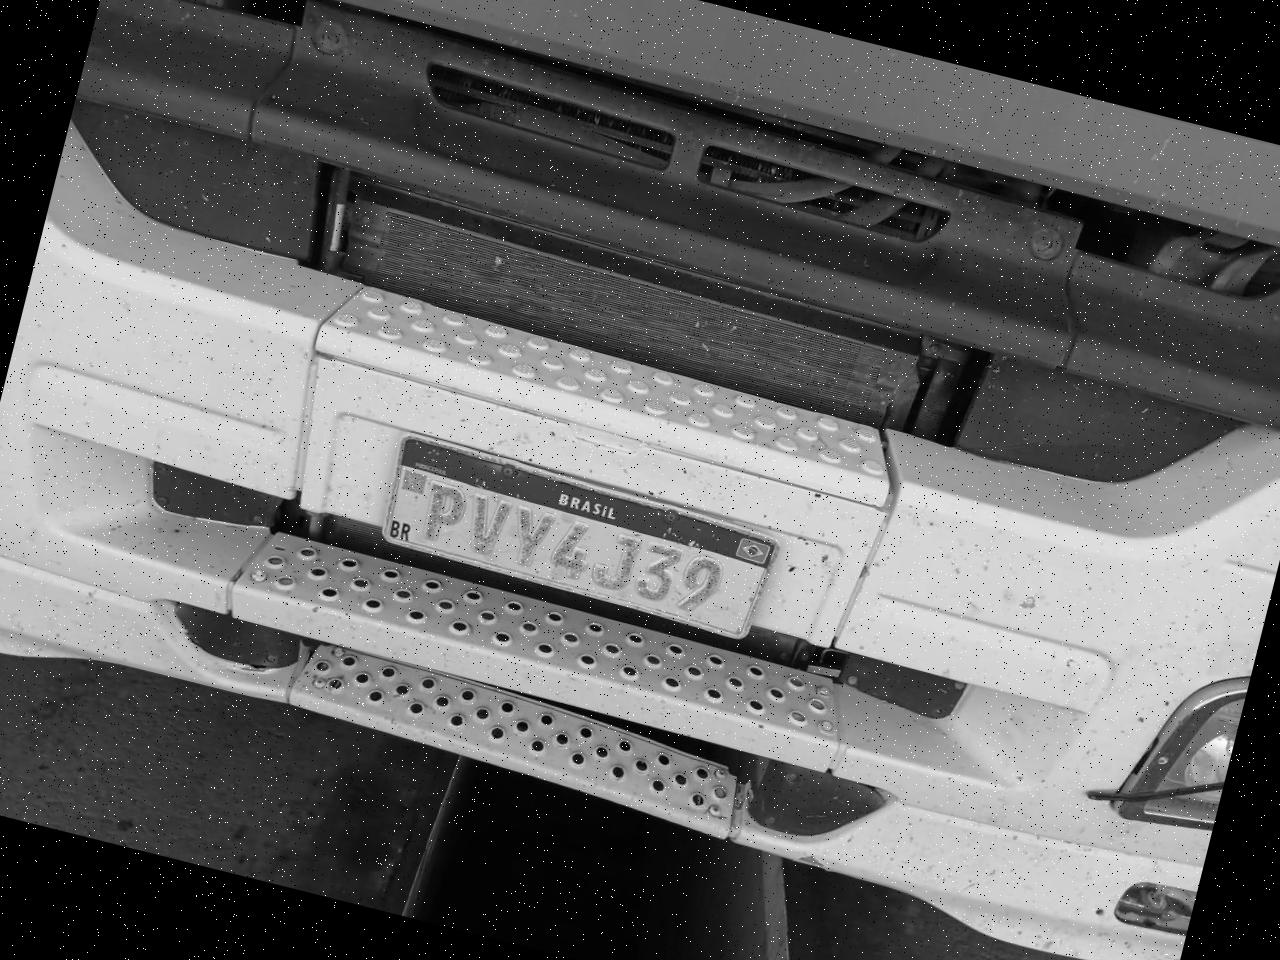placa_mercosul: (383, 436, 776, 637)
